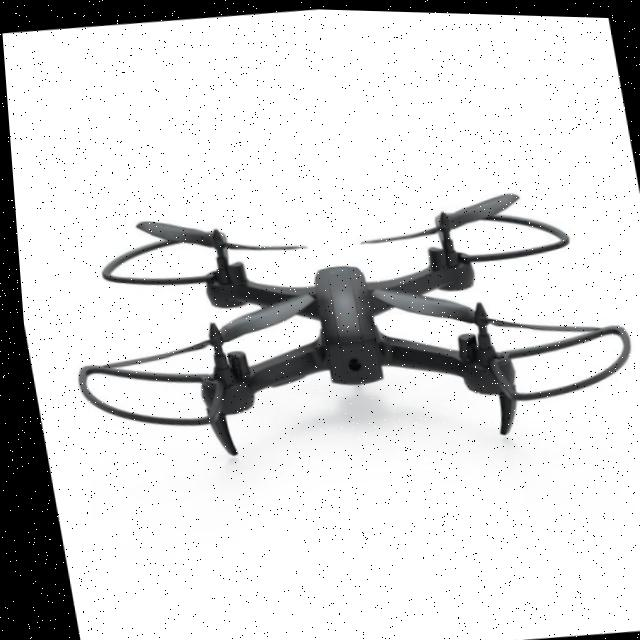drones: (18, 109, 640, 516)
